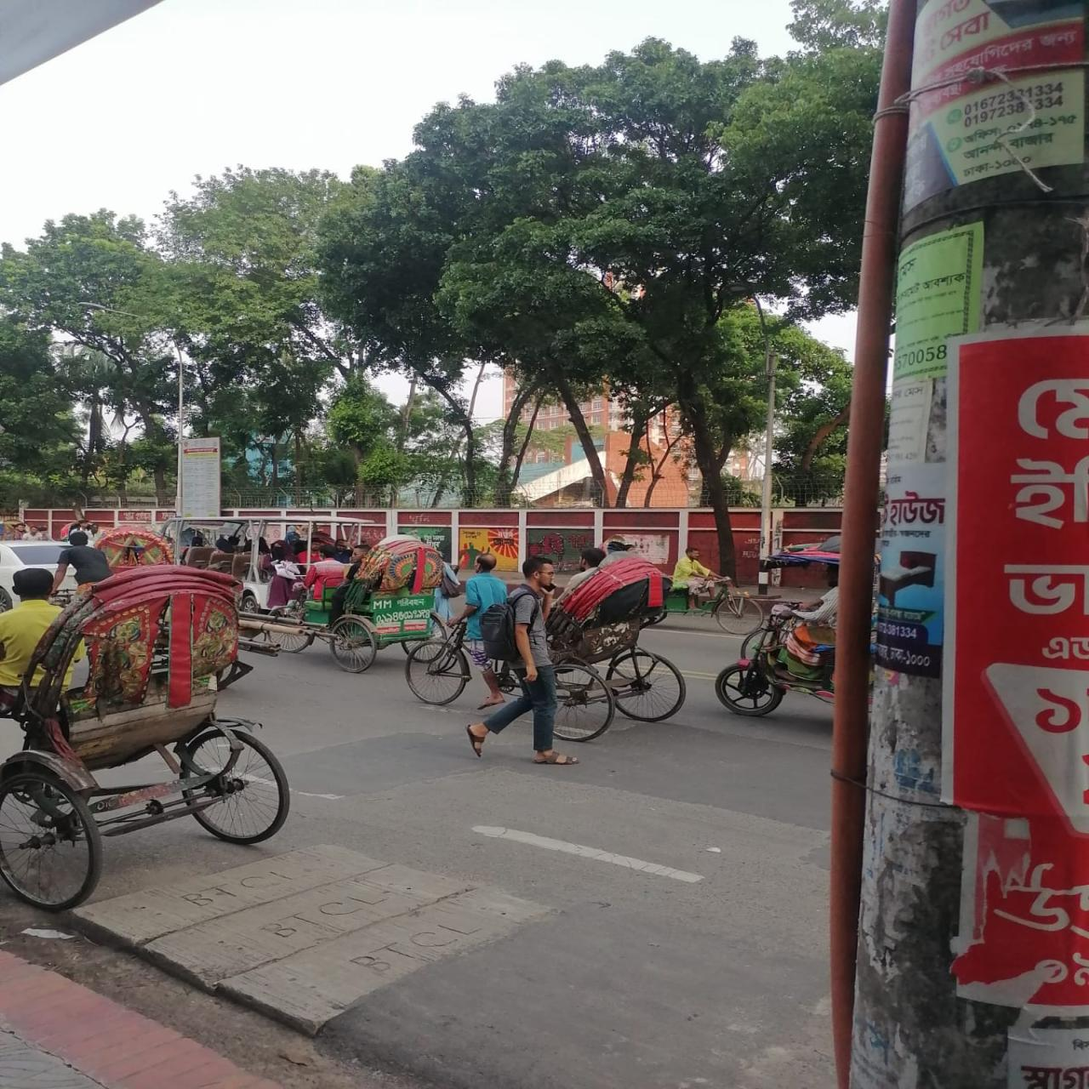person: (463, 551, 577, 771)
